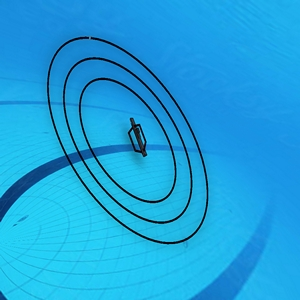circle: (41, 22, 232, 247)
submarine: (127, 119, 150, 155)
